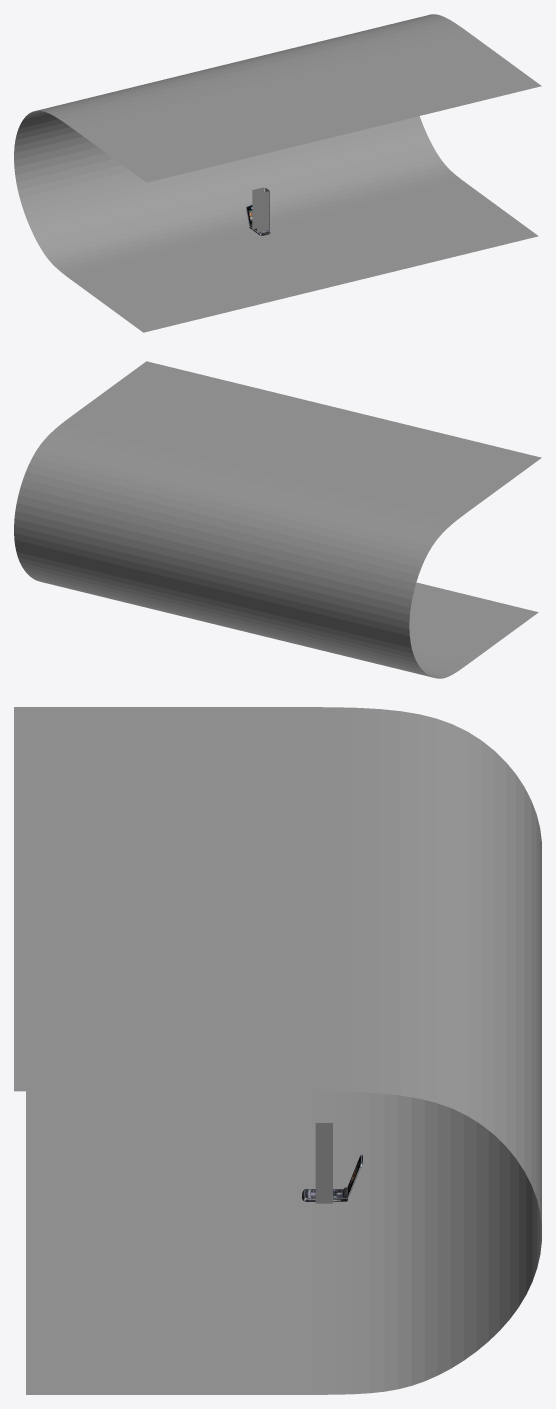
Rendered from razr2obj.obj.
The picture shows the model from 3 angles, top to bottom: view 1: azimuth 30°, elevation 25°; view 2: azimuth 150°, elevation 25°; view 3: azimuth 270°, elevation 25°; orthographic projection. The views are drawn at different scales.
Parts seen in each view (by area): view 1: Plane04, Plane02; view 2: Plane04; view 3: Plane04, Plane03.
Boxes of the visible parts, x1,y1,x2,y2 form: Plane04: (14, 14, 541, 332); Plane02: (257, 191, 268, 234); Plane04: (14, 361, 541, 678); Plane04: (14, 707, 541, 1394); Plane03: (315, 1123, 332, 1203).
Bounding box in the file's own units: 266 × 98.22 × 154.
8 materials, 3 textured.
